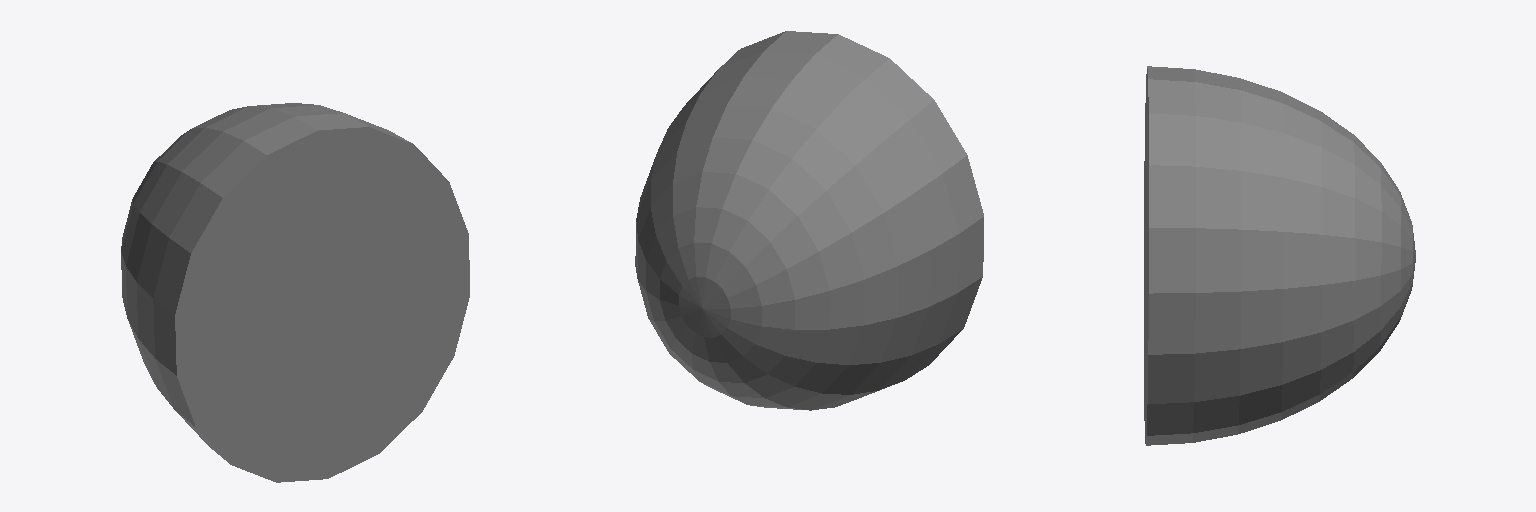
The model's file is Kiwi.obj.
3 views of the same model, side by side, from view 1: azimuth 30°, elevation 25°; view 2: azimuth 150°, elevation 25°; view 3: azimuth 270°, elevation 25° (orthographic).
Parts seen in each view (by area): view 1: Inst3D29_RefRep.250; view 2: Inst3D29_RefRep.250; view 3: Inst3D29_RefRep.250.
Part boxes in pixels (bbox=[...]): Inst3D29_RefRep.250: bbox=[121, 103, 469, 482]; Inst3D29_RefRep.250: bbox=[635, 31, 983, 410]; Inst3D29_RefRep.250: bbox=[1144, 66, 1415, 445].
Size of the model in its own units: 3.43 by 3.85 by 2.72.